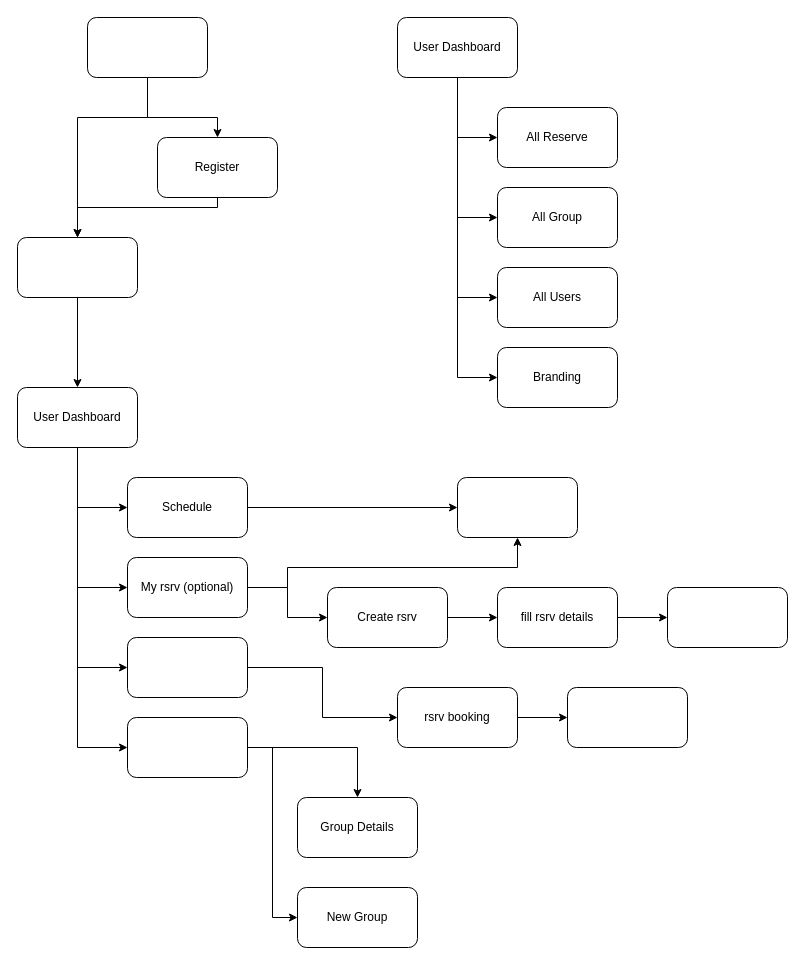
The diagram is 805 pixels wide and 965 high, and some of its shapes have lost their labels. The shapes that lost their labels are listed below. From the top down, each one's centre as x and y in pixels, then its label:
At point (147, 47): "Home Page".
At point (77, 267): "Login/Register".
At point (517, 507): "rsrv detail".
At point (727, 617): "add group/user/invitation".
At point (187, 667): "Book".
At point (627, 717): "booking process".
At point (187, 747): "My Groups".
